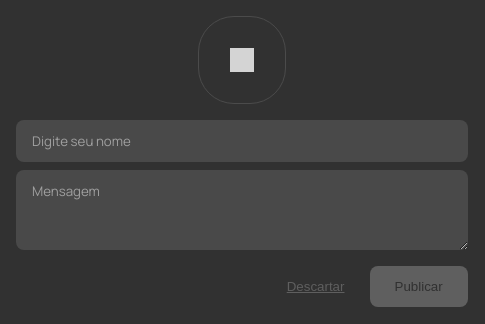
Test: Form › should enable submitButton when any input is filled
Expected: the button "Publicar" is disabled, [370,266,468,307]
Type "John Doe" into the field with placeholder "Digite seu nome" at [242, 141], box [16,120,468,162]
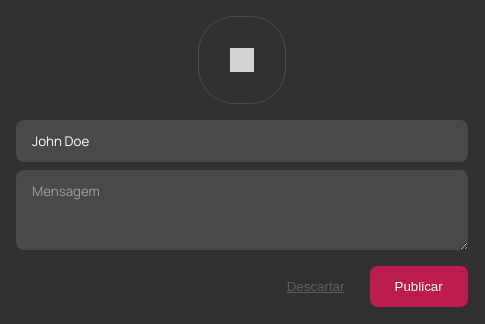
Expected: the button "Publicar" is enabled, [370,266,468,307]
